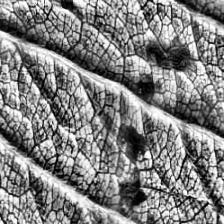Angular Leafspot: (0, 0, 213, 224)
